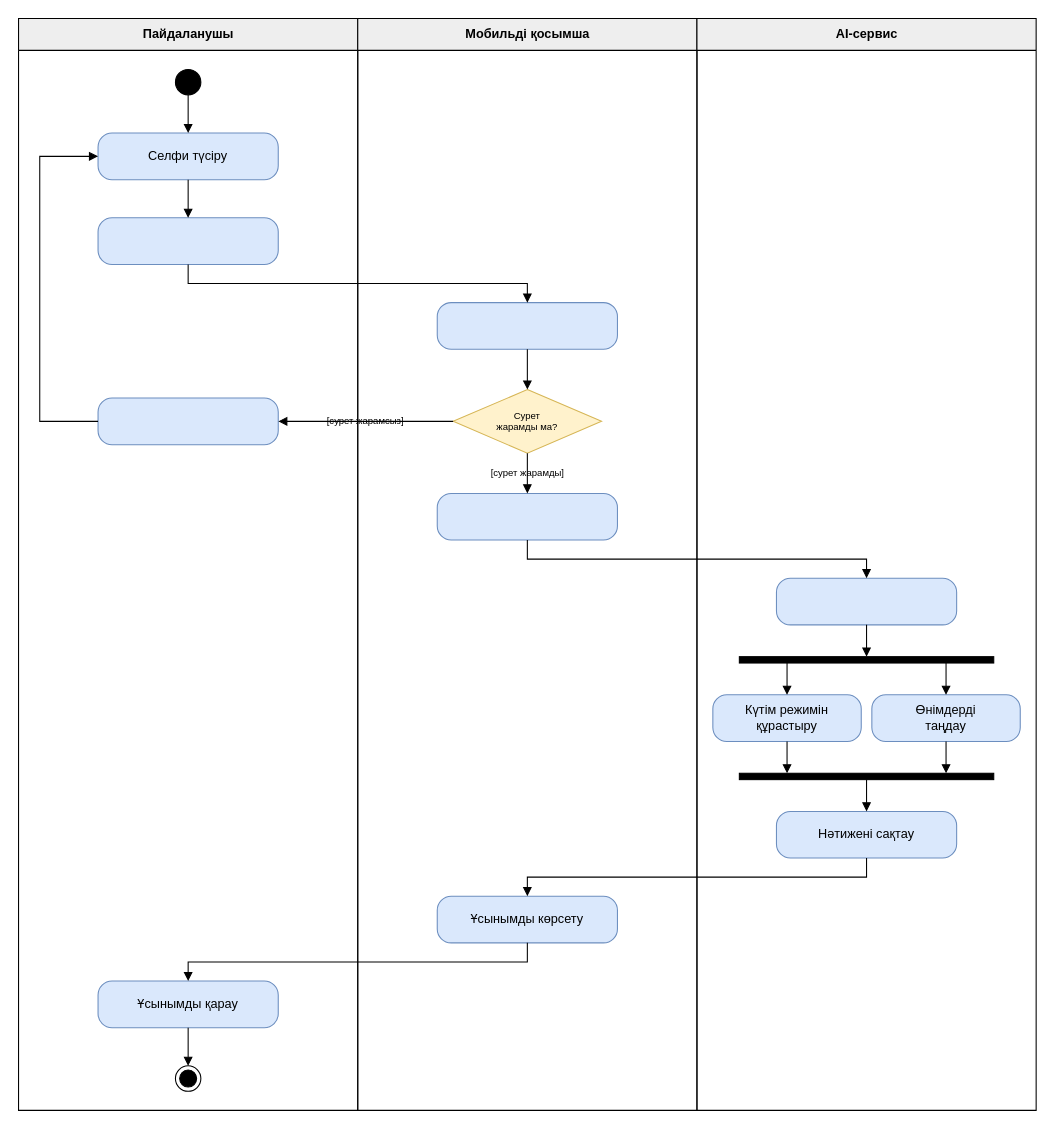
Some shapes in this 1055 by 1129 pixel diagram are drawn without their labels. The centre of each missing label's shape, as x and y in pixels:
Сауалнаманы толтыру: (187,240)
Сурет сапасын тексеру: (526,325)
Суретті талдауға жіберу: (526,516)
Суретті қайта түсіру: (187,421)
Тері күйін талдау: (866,601)
